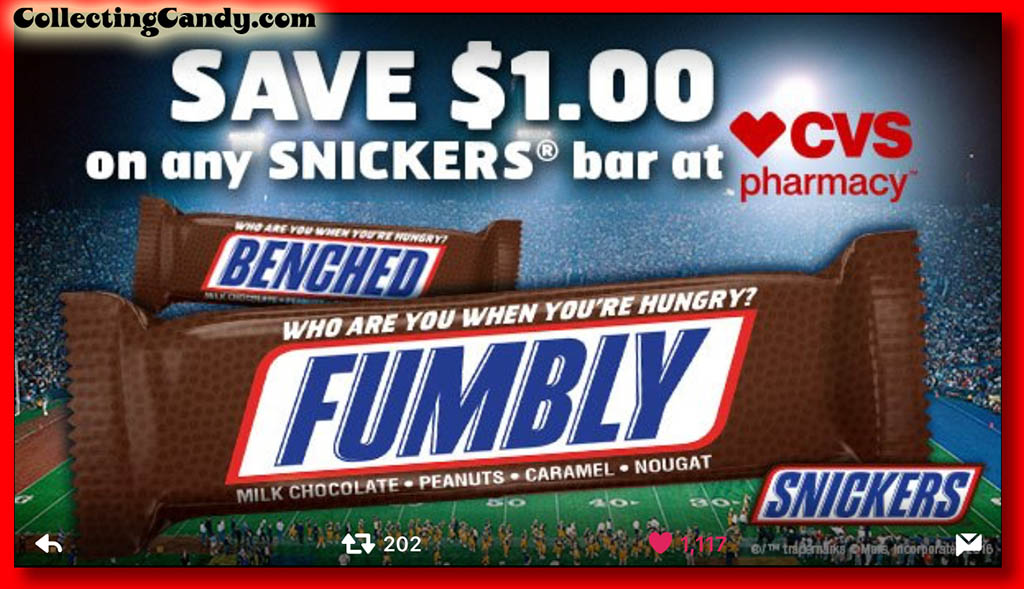snickers: (763, 470, 973, 520)
